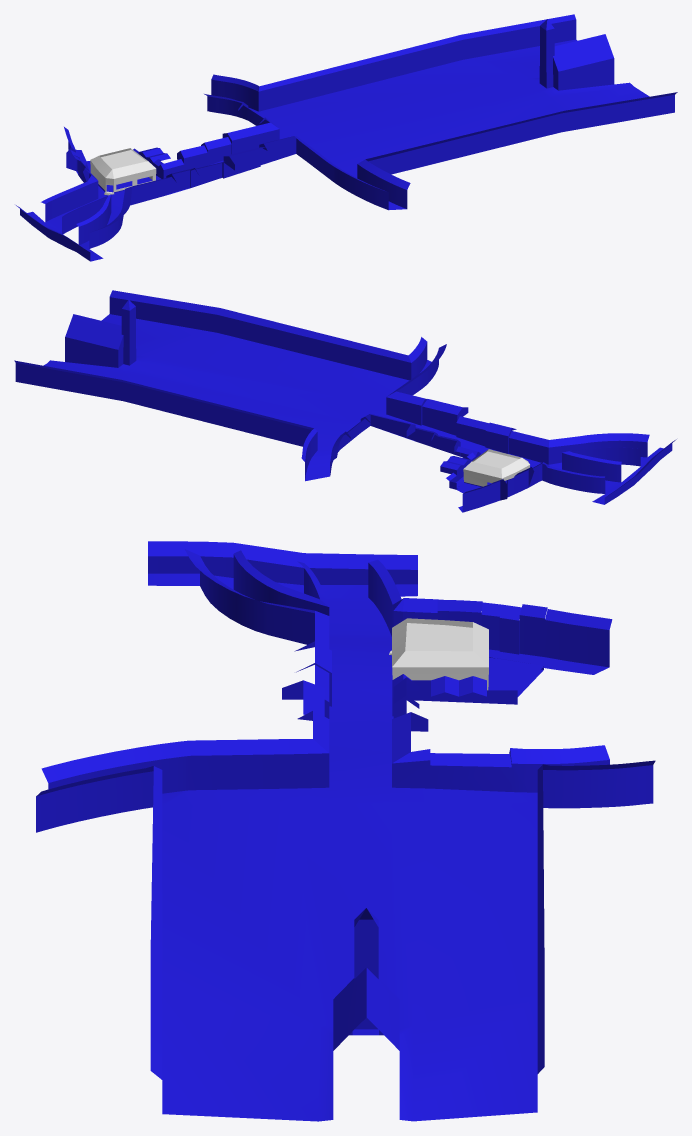
The model's file is MapRenome1.fbx.
The picture shows the model from 3 angles, top to bottom: view 1: azimuth 30°, elevation 25°; view 2: azimuth 150°, elevation 25°; view 3: azimuth 270°, elevation 25°; orthographic projection. The views are drawn at different scales.
Parts seen in each view (by area): view 1: Plane, Plane.010, Plane.001; view 2: Plane, Plane.010, Plane.001; view 3: Plane, Plane.010, Plane.003, Plane.001.
Part boxes in pixels (x1,y1,x2,y2): Plane: (16,14,677,261); Plane.010: (90,148,155,178); Plane.001: (90,150,156,192); Plane: (14,290,676,512); Plane.010: (463,449,529,478); Plane.001: (463,451,529,486); Plane: (36,541,655,1121); Plane.010: (392,618,488,667); Plane.003: (488,657,543,696); Plane.001: (392,623,488,690).
Size of the model in its own units: 25221 by 3321 by 11969.
